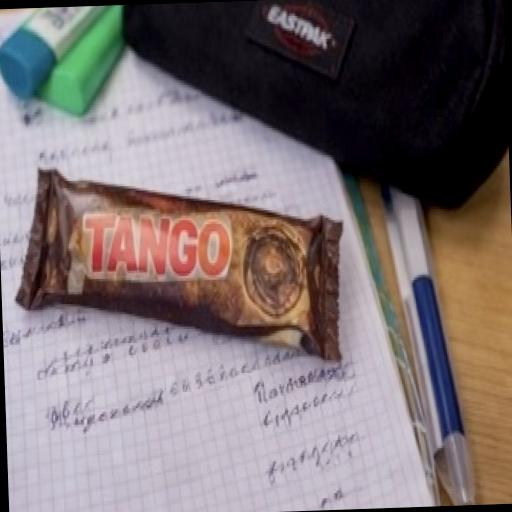tango: (0, 93, 362, 410)
